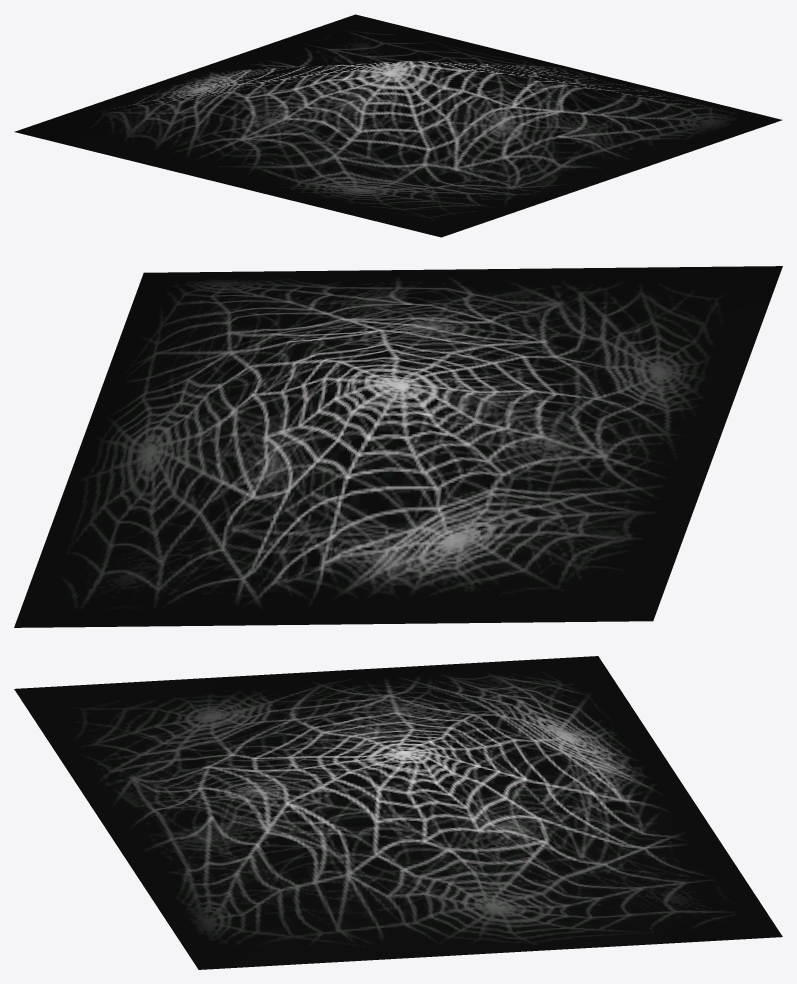
File: MIRKWOOD_PLANE24.fbx
3 views of the same model, one above another, from view 1: azimuth 30°, elevation 25°; view 2: azimuth 150°, elevation 25°; view 3: azimuth 270°, elevation 25° (orthographic). The views are drawn at different scales.
Visible parts, largest first — view 1: MIRKWOOD_PLANE24; view 2: MIRKWOOD_PLANE24; view 3: MIRKWOOD_PLANE24.
Boxes of the visible parts, <box> form: MIRKWOOD_PLANE24: <box>14,14,782,237</box>; MIRKWOOD_PLANE24: <box>14,266,782,627</box>; MIRKWOOD_PLANE24: <box>14,656,782,969</box>.
Size of the model in its own units: 139961 by 23664 by 144134.
Materials: 1 (1 with a texture image).
